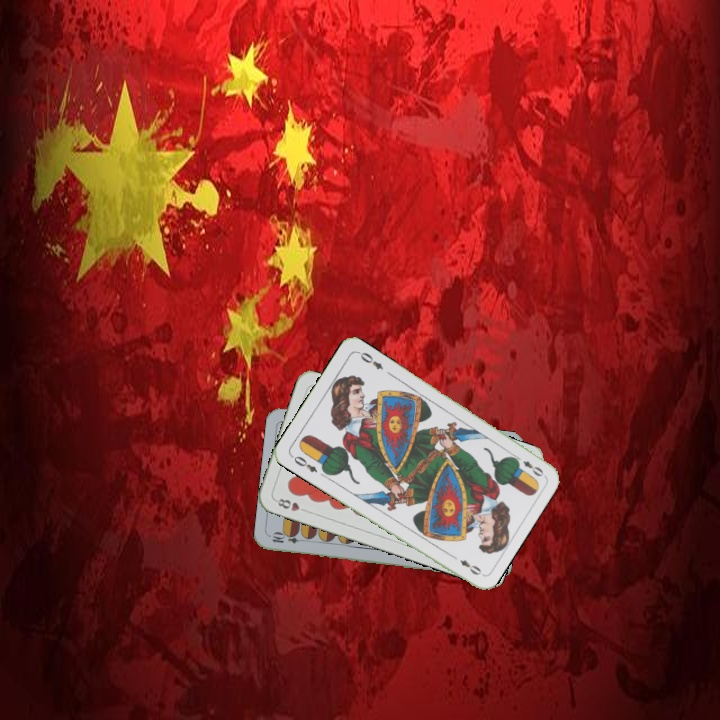E10: (268, 531, 309, 546)
EO: (510, 451, 546, 479), (287, 451, 320, 475)
H8: (271, 494, 311, 515)
